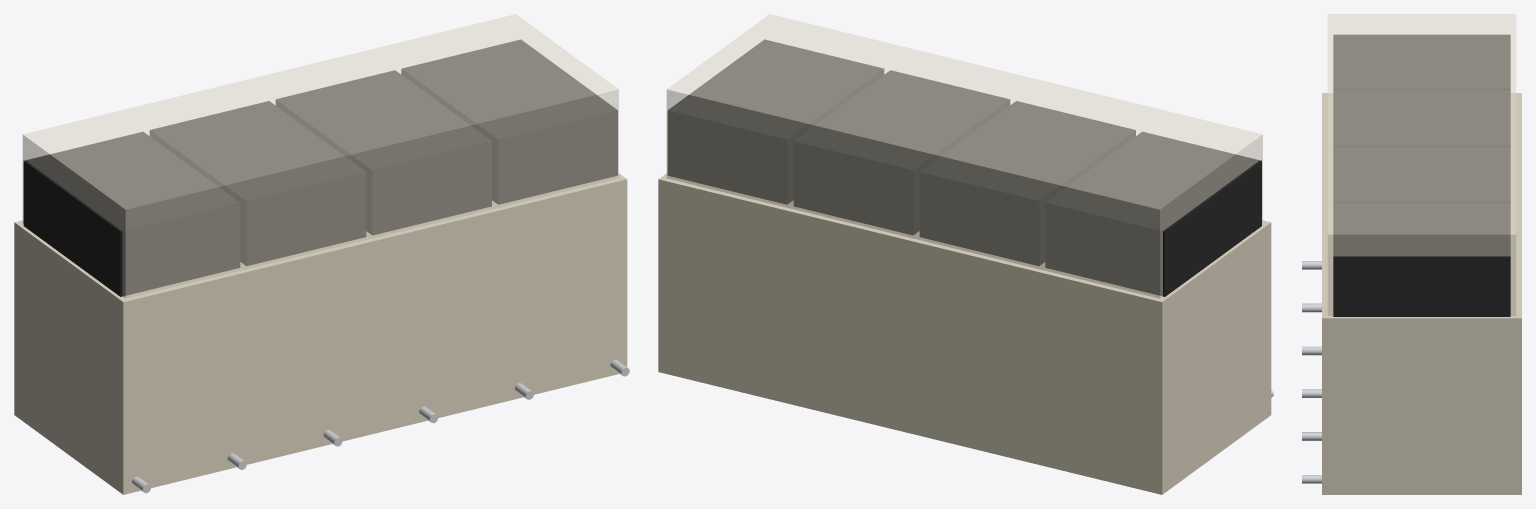
File: distribution-panel-512.glb
3 views of the same model, side by side, from view 1: azimuth 30°, elevation 25°; view 2: azimuth 150°, elevation 25°; view 3: azimuth 270°, elevation 25° (orthographic). The views are drawn at different scales.
Parts seen in each view (by area): view 1: case_body, lid, terminal_1, terminal_2, terminal_4, terminal_3; view 2: case_body, lid, terminal_1, terminal_3, terminal_4, terminal_2; view 3: lid, case_body, terminal_4, terminal_3, terminal_1, terminal_2.
Boxes of the visible parts, x1=… form: case_body: x1=14, y1=173, x2=627, y2=494; lid: x1=22, y1=14, x2=618, y2=298; terminal_1: x1=23, y1=132, x2=240, y2=296; terminal_2: x1=149, y1=101, x2=366, y2=265; terminal_4: x1=401, y1=39, x2=617, y2=204; terminal_3: x1=275, y1=70, x2=491, y2=235; case_body: x1=658, y1=173, x2=1271, y2=494; lid: x1=666, y1=14, x2=1262, y2=298; terminal_1: x1=1045, y1=131, x2=1261, y2=296; terminal_3: x1=793, y1=70, x2=1010, y2=235; terminal_4: x1=667, y1=39, x2=884, y2=204; terminal_2: x1=919, y1=101, x2=1135, y2=265; lid: x1=1327, y1=14, x2=1516, y2=315; case_body: x1=1322, y1=93, x2=1521, y2=494; terminal_4: x1=1333, y1=203, x2=1510, y2=316; terminal_3: x1=1333, y1=147, x2=1510, y2=203; terminal_1: x1=1333, y1=34, x2=1510, y2=90; terminal_2: x1=1333, y1=91, x2=1510, y2=147.
Bounding box in the file's own units: 0.48 × 0.2565 × 0.198.
